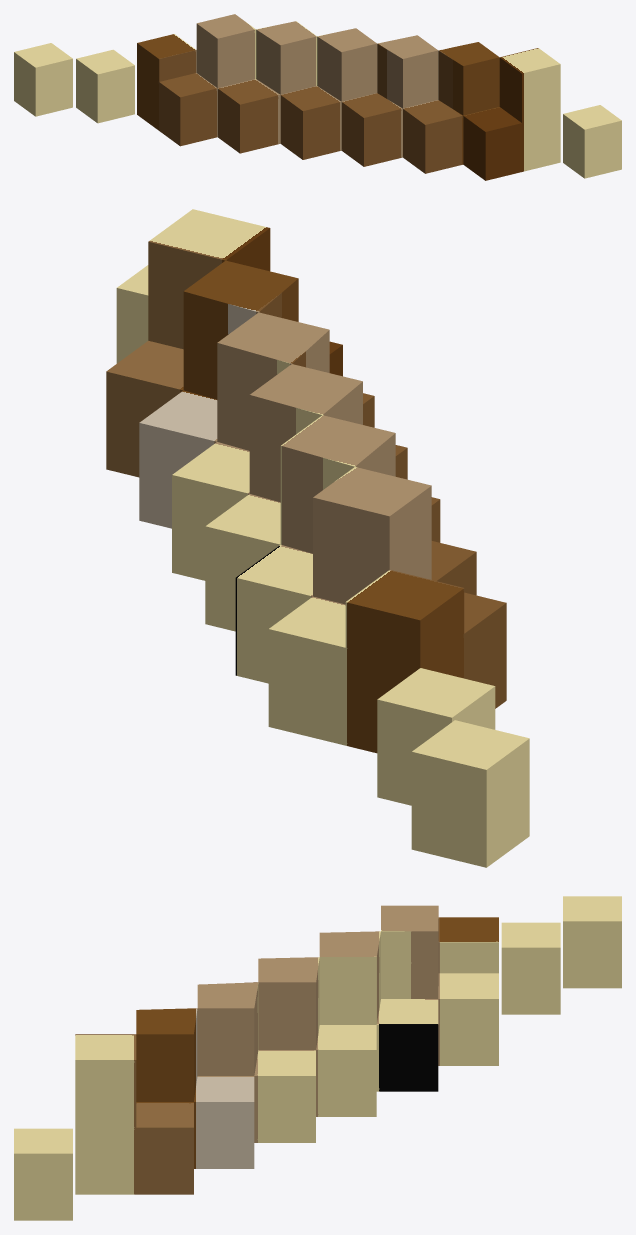
The model's file is kitchen_item_863x09.gltf.
3 renders of one model, top to bottom at view 1: azimuth 30°, elevation 25°; view 2: azimuth 150°, elevation 25°; view 3: azimuth 270°, elevation 25°, orthographic. The views are drawn at different scales.
Parts seen in each view (by area): view 1: kitchen_item_863x09; view 2: kitchen_item_863x09; view 3: kitchen_item_863x09.
Boxes of the visible parts, x1,y1,x2,y2 form: kitchen_item_863x09: [14, 14, 621, 180]; kitchen_item_863x09: [106, 209, 529, 867]; kitchen_item_863x09: [14, 896, 621, 1220].
Bounding box in the file's own units: 0.8164 × 0.1992 × 0.8152.
Materials: 1 (1 with a texture image).
